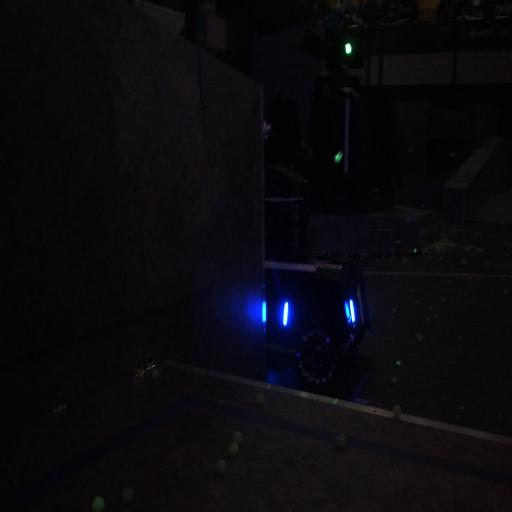target: (344, 281, 372, 338)
